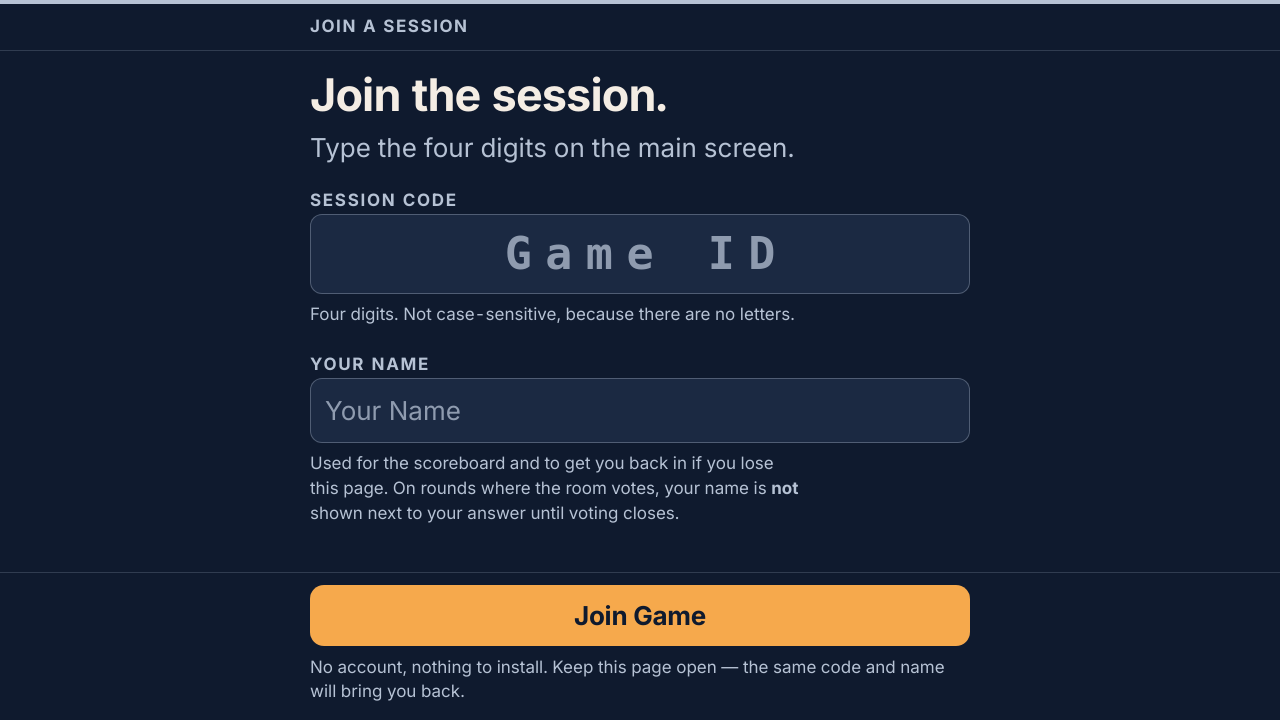
PlayerPage — answered state and in-flight selection survive a refresh › a tapped-but-unsubmitted option survives a refresh landing before Submit
Type "TEST123" into the field with placeholder "Game ID" at (640, 254), box x1=310 y1=214 x2=970 y2=294
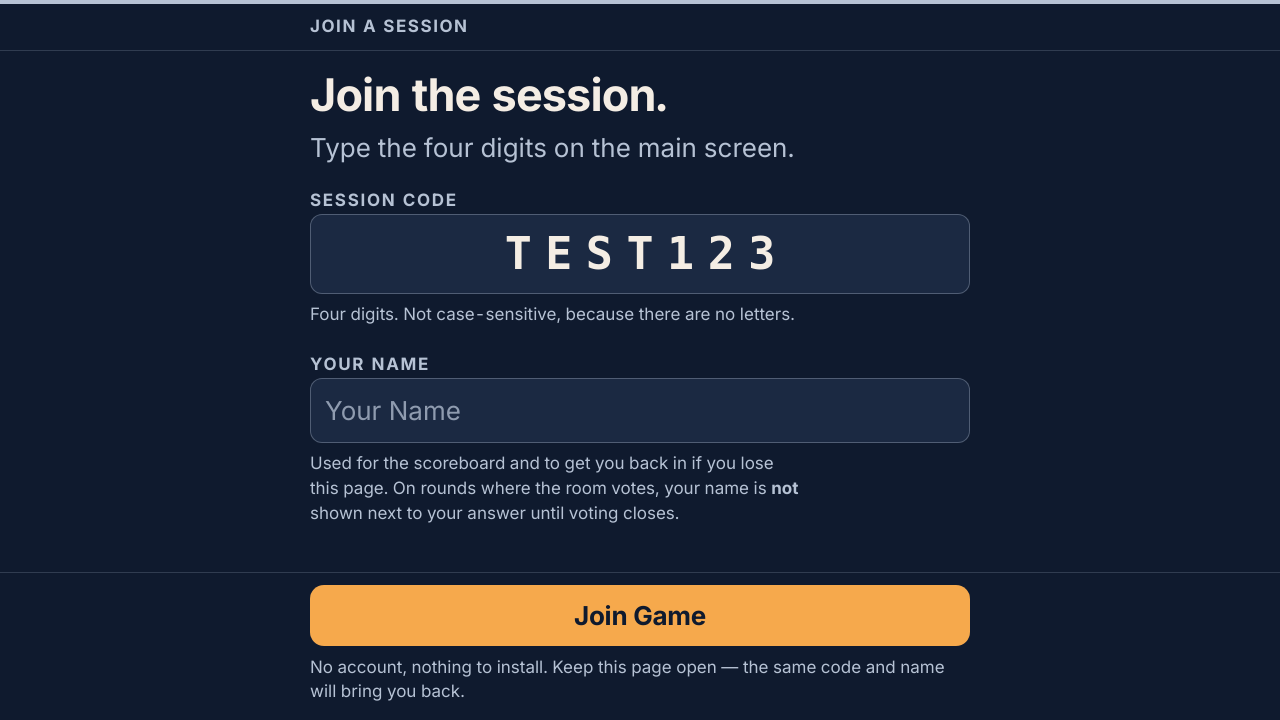
Type "TestPlayer" into the field with placeholder "Your name" at (640, 411), box x1=310 y1=378 x2=970 y2=443
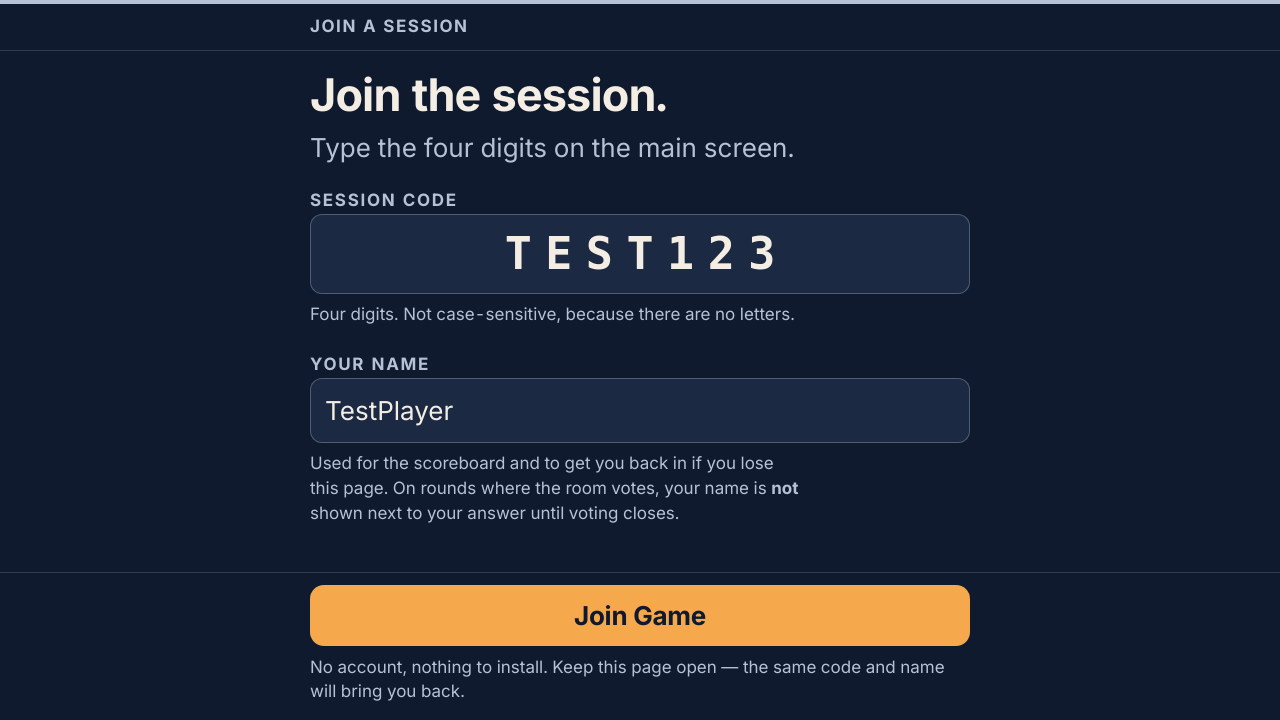
Click the button "Join Game" at (640, 616), box x1=310 y1=585 x2=970 y2=646
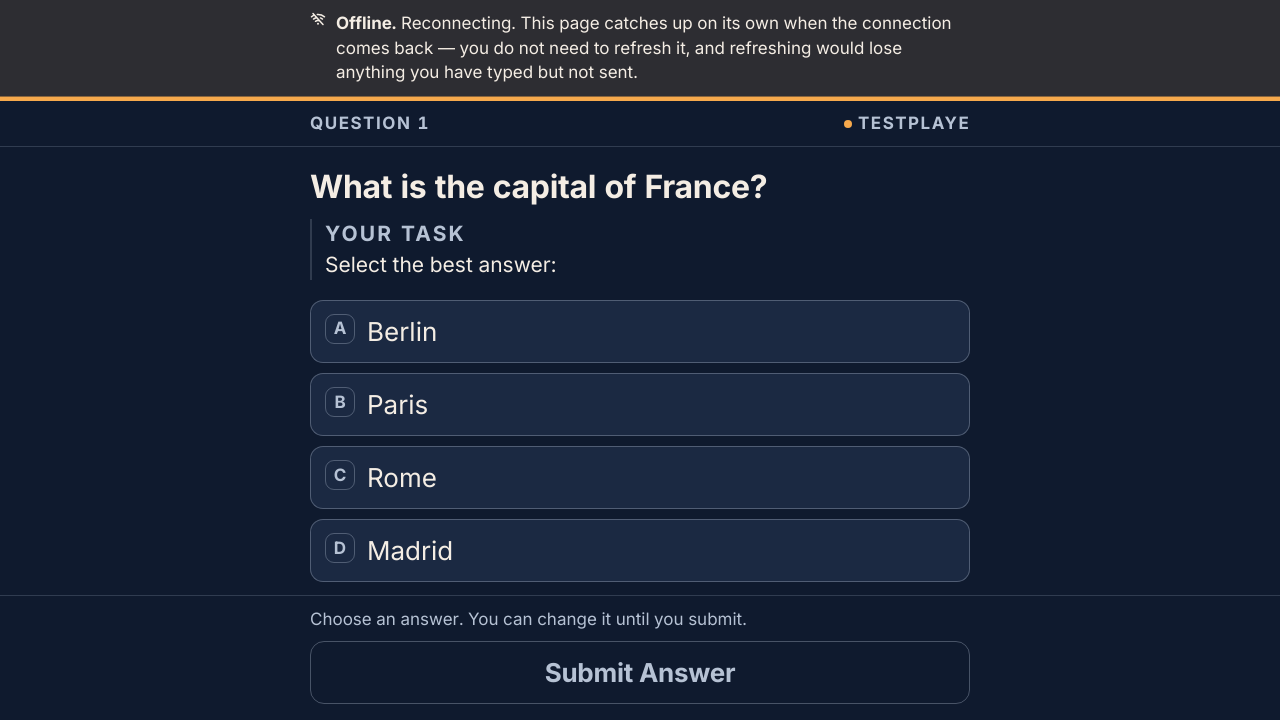
Now the text "What is the capital of France?" is shown, box x1=310 y1=167 x2=767 y2=206
Click the text "Paris" at (398, 405), box x1=367 y1=387 x2=428 y2=422
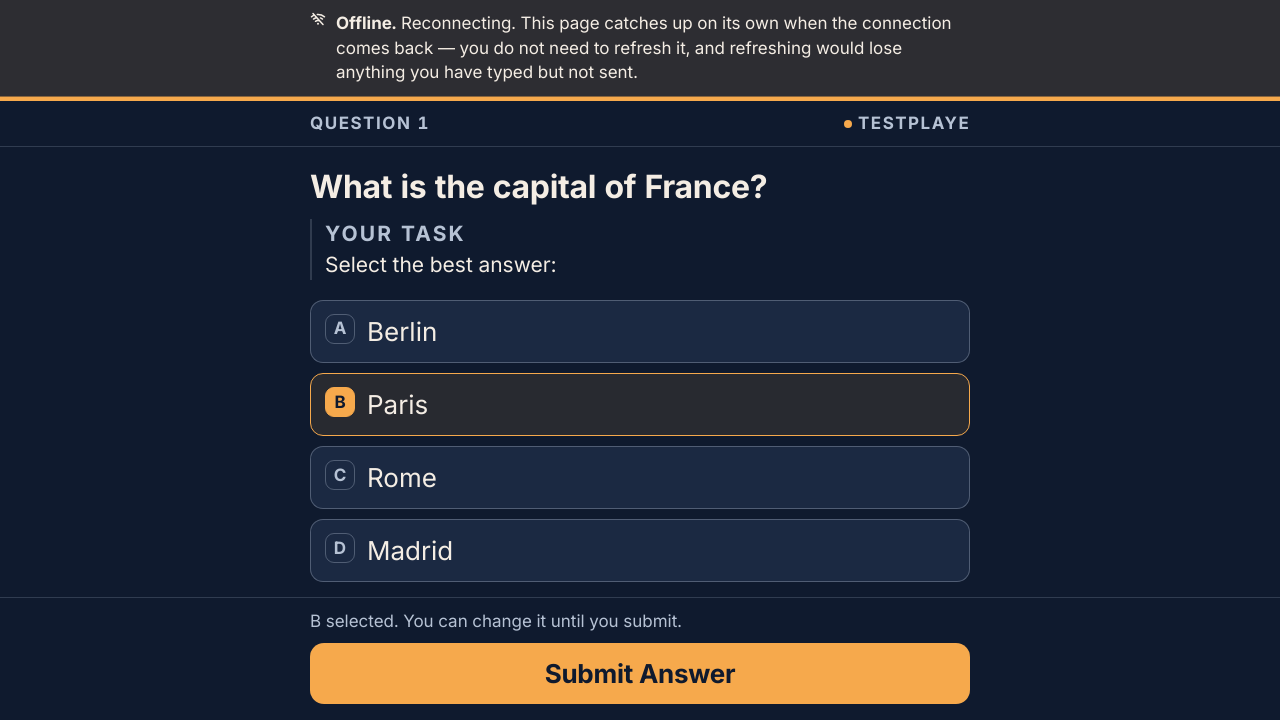
Now the button "Submit Answer" is enabled, box x1=310 y1=643 x2=970 y2=704
